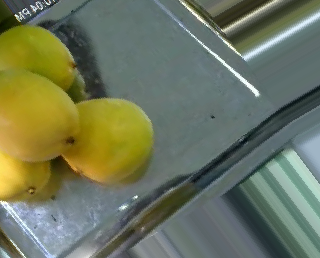Mango: (57, 97, 153, 185), (0, 69, 79, 162), (0, 23, 75, 92), (0, 151, 52, 200)
